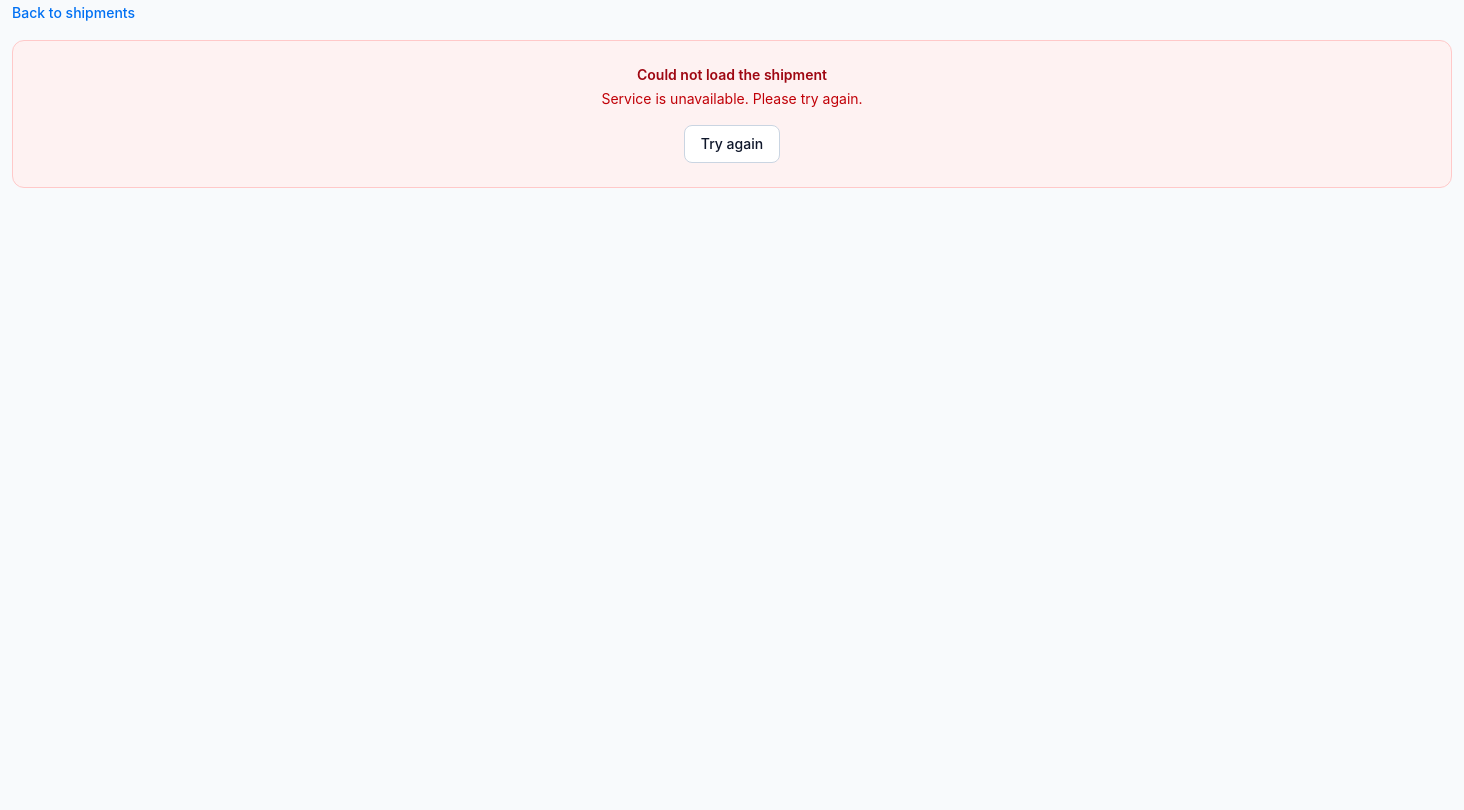
it: ShipmentDetailView › loads again on "Try again"
Click the button "Try again" at {"x": 732, "y": 144}, box x1=684 y1=125 x2=780 y2=163
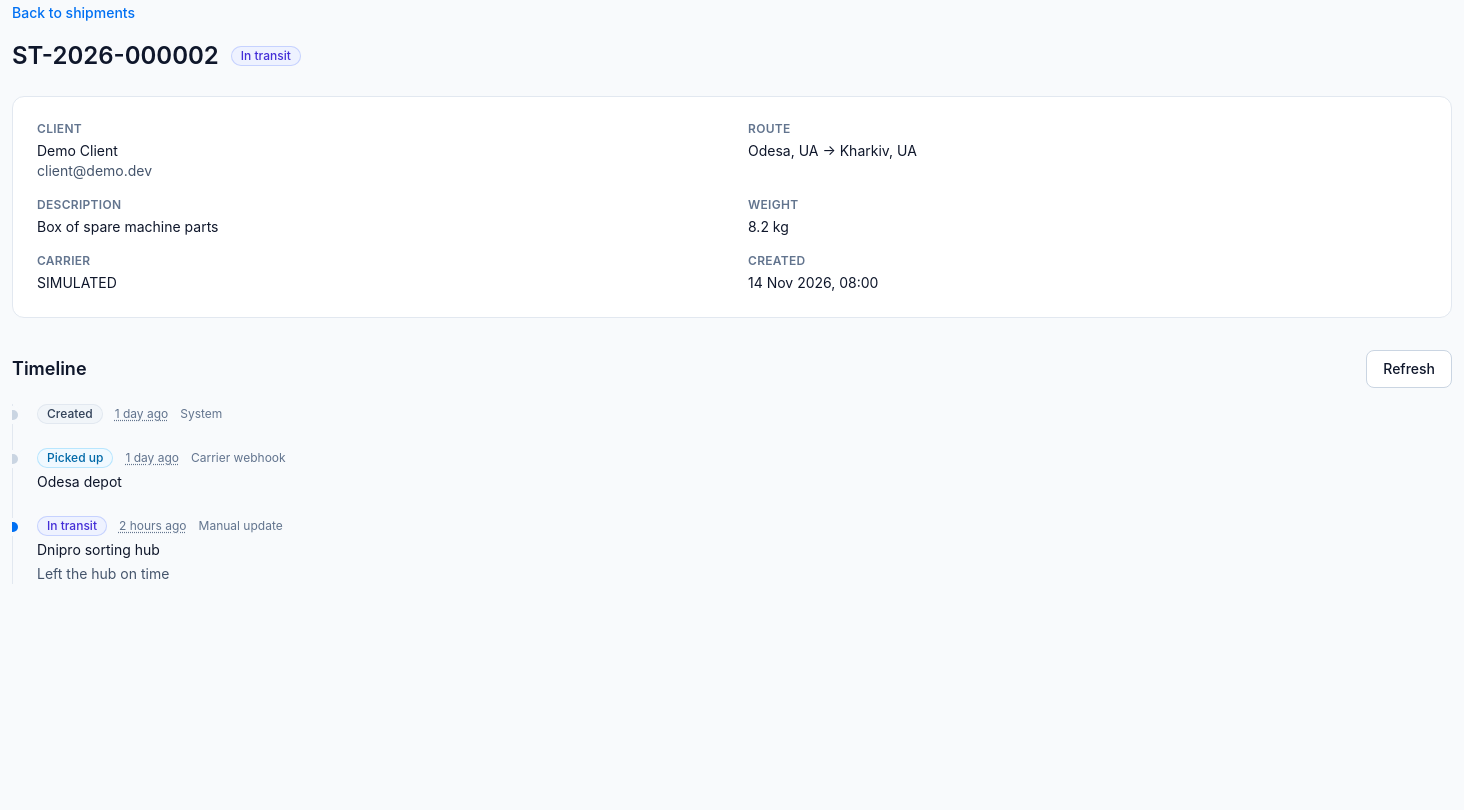
Expected: the heading "ST-2026-000002" is shown, x1=12 y1=40 x2=219 y2=72
Expected: the message "Could not load the shipment Service is unavailable. Please try again. Try again" is gone
